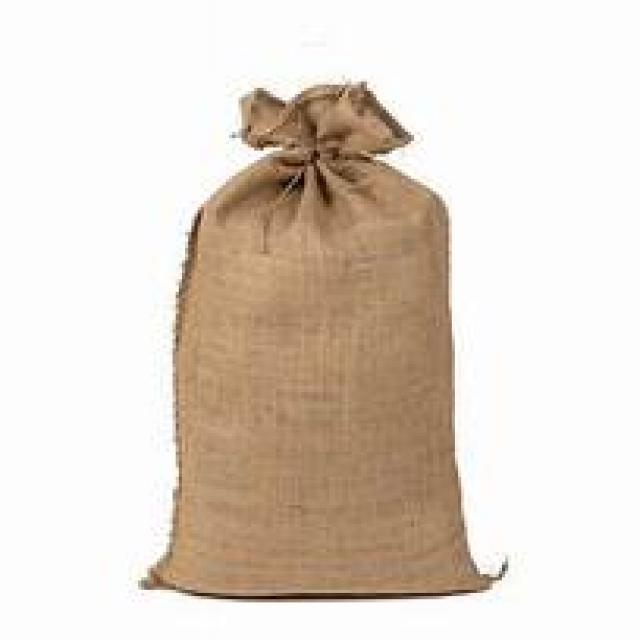gunny_bag: (129, 88, 507, 602)
